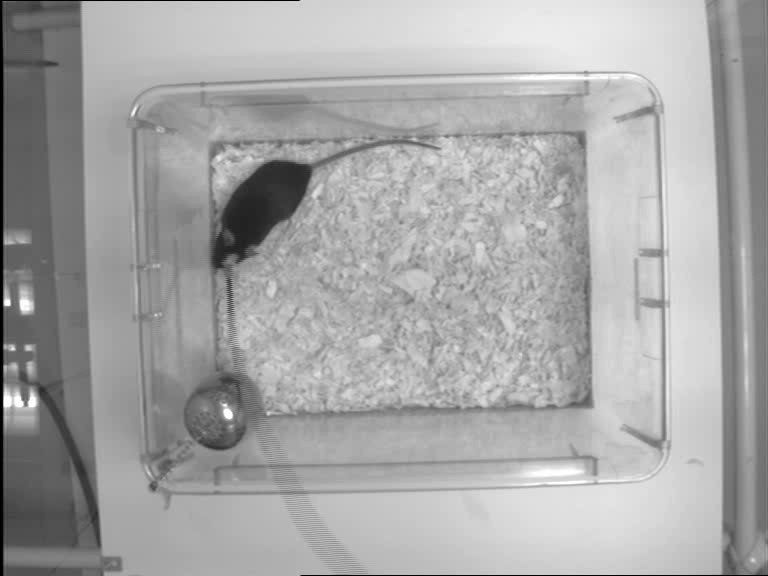mice: (210, 138, 442, 270)
